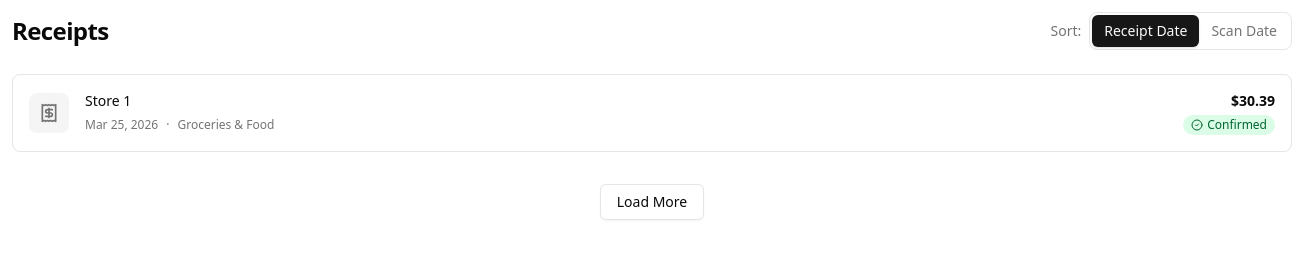
Test: ReceiptsPage › hides Load More after last page is loaded
Step 1. Click the button "Load More" → click(652, 202), box [600,184,704,220]
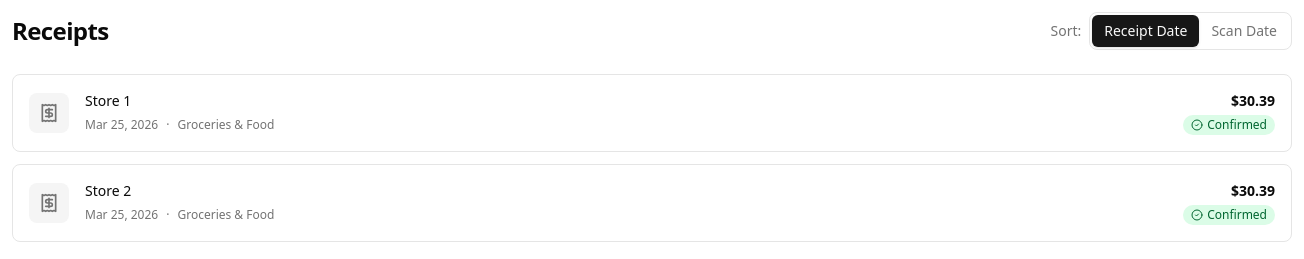
Expected: the text "Store 2" is shown, [85,181,131,201]
Expected: the button "Load More" is gone
